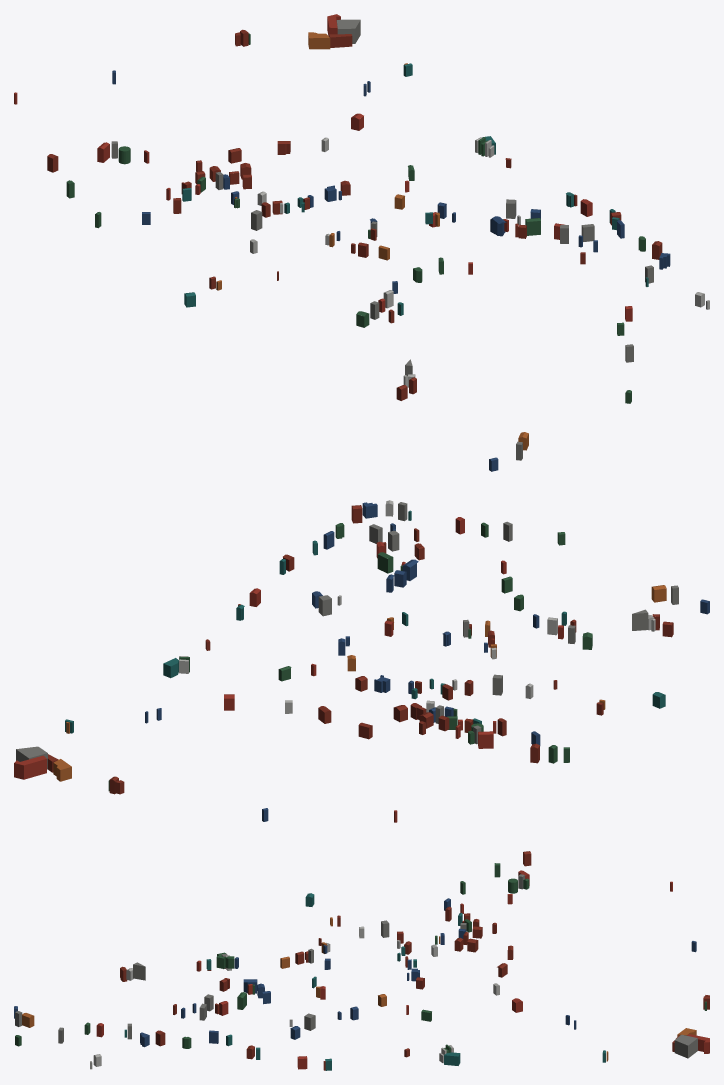
The model's file is near-15-27349-14861.ddbd8ed1.glb.
3 views of the same model, one above another, from view 1: azimuth 30°, elevation 25°; view 2: azimuth 150°, elevation 25°; view 3: azimuth 270°, elevation 25° (orthographic). The views are drawn at different scales.
Bounding box in the file's own units: 659 × 198 × 1148.
